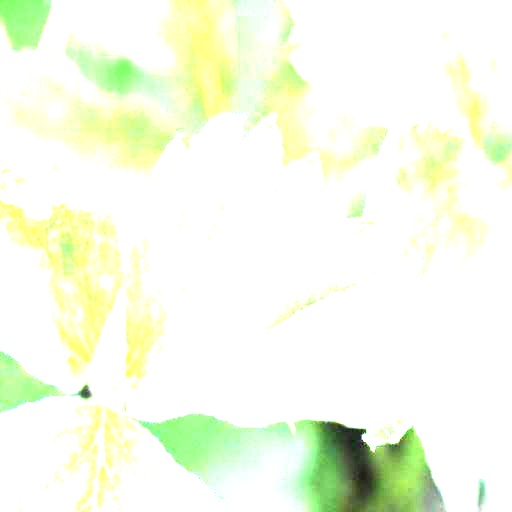Powdery Mildew Leaf: (122, 113, 465, 428), (0, 151, 131, 394), (0, 396, 224, 511), (364, 87, 485, 261)
